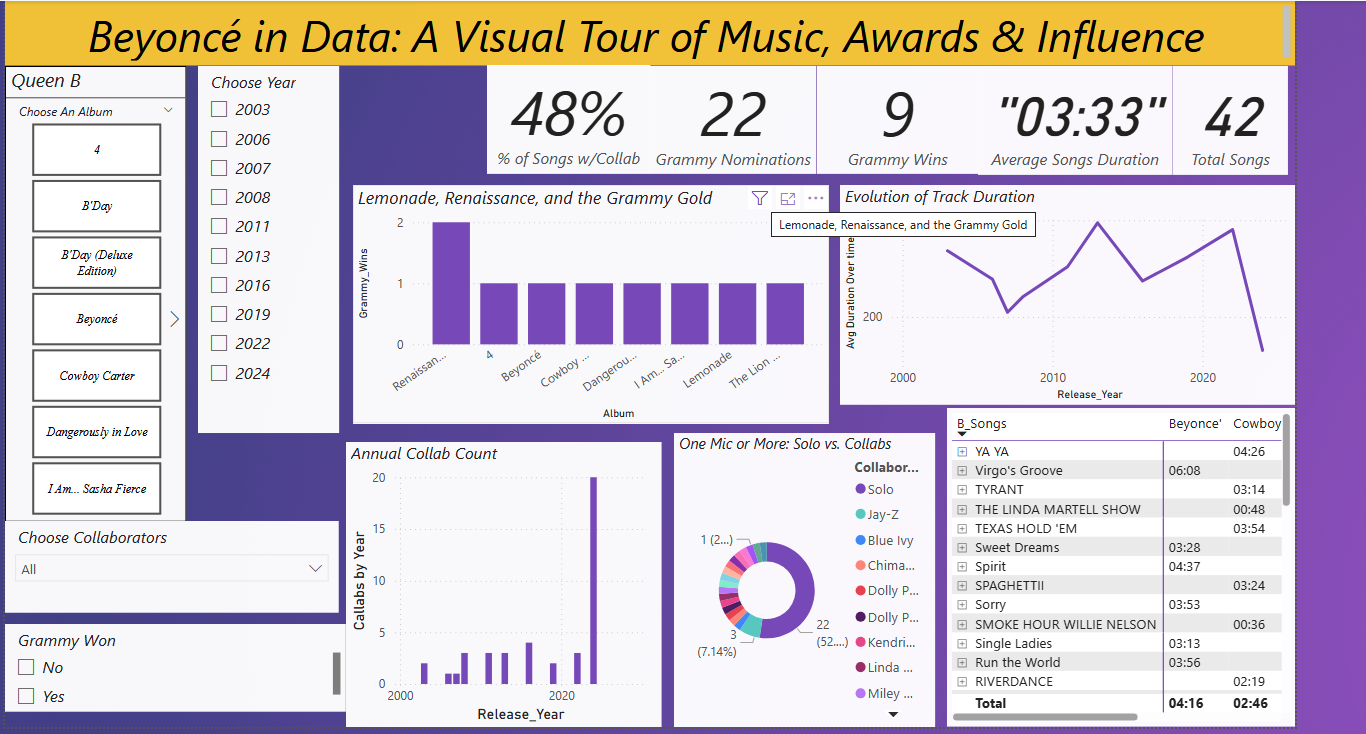

Layout of this report page (visuals, bound fields, positions):
{"tool":"powerbi","page":{"name":"Page 1","canvas":[1280,720],"ordinal":0},"visuals":[{"type":"textbox","box":[0,0,1280,63.9],"z":0},{"type":"card","fields":{"Values":["BEYONCE Song Data.B_Songs"]},"box":[1158,64,114,108],"z":1000},{"type":"card","fields":{"Values":["BEYONCE Song Data.Avg_Duration_Quoted"]},"box":[965,64,193,108],"z":2000},{"type":"card","fields":{"Values":["BEYONCE Song Data.Grammy_Wins"]},"box":[805,64,160,107],"z":3000},{"type":"card","fields":{"Values":["BEYONCE Song Data.Grammy_Nominations"]},"box":[640,64,165,107],"z":4000},{"type":"card","fields":{"Values":["BEYONCE Song Data.Collab_Percent"]},"box":[478,63,162,108],"z":5000},{"type":"lineChart","title":"Evolution of Track Duration","fields":{"Category":["BEYONCE Song Data.Release_Year"],"Y":["BEYONCE Song Data.Avg_Duration_Sec"]},"box":[828,182,452,218],"z":6000},{"type":"donutChart","title":"One Mic or More: Solo vs. Collabs","fields":{"Category":["BEYONCE Song Data.Collaborators"],"Y":["BEYONCE Song Data.Song_ID"]},"box":[663,428,259,292],"z":7000},{"type":"columnChart","title":"Lemonade, Renaissance, and the Grammy Gold ","fields":{"Y":["BEYONCE Song Data.Grammy_Wins"],"Category":["BEYONCE Song Data.Album"]},"box":[345,182,472,237],"z":8000},{"type":"columnChart","title":"Annual Collab Count ","fields":{"Category":["BEYONCE Song Data.Release_Year"],"Y":["BEYONCE Song Data.Is_Collab"]},"box":[338,437,313,283],"z":9000},{"type":"pivotTable","fields":{"Rows":["BEYONCE Song Data.B_Songs","BEYONCE Song Data.Collaborators","BEYONCE Song Data.Grammy_Won"],"Columns":["BEYONCE Song Data.Album_Type"],"Values":["BEYONCE Song Data.Avg_Duration_Formatted"]},"box":[934,404,346,316],"z":10000},{"type":"slicer","title":"Queen B","fields":{"Values":["BEYONCE Song Data.Album"]},"box":[0,64.4,180.5,451.7],"z":11000},{"type":"slicer","fields":{"Values":["BEYONCE Song Data.Release_Year"]},"box":[191.2,64.4,139.5,363.9],"z":12000},{"type":"slicer","fields":{"Values":["BEYONCE Song Data.Grammy_Won"]},"box":[0,617.6,337.6,86.8],"z":13000},{"type":"slicer","fields":{"Values":["BEYONCE Song Data.Collaborators"]},"box":[0,516.1,330.7,90.7],"z":14000}]}

Visuals, with their boxes in screenshot pixels (x1, y1, x2, y2):
textbox: rect(4, 0, 1288, 64)
card - BEYONCE Song Data.B_Songs: rect(1166, 64, 1280, 173)
card - BEYONCE Song Data.Avg_Duration_Quoted: rect(972, 64, 1166, 173)
card - BEYONCE Song Data.Grammy_Wins: rect(812, 64, 972, 172)
card - BEYONCE Song Data.Grammy_Nominations: rect(646, 64, 812, 172)
card - BEYONCE Song Data.Collab_Percent: rect(483, 63, 646, 172)
"Evolution of Track Duration" lineChart: rect(835, 183, 1288, 401)
"One Mic or More: Solo vs. Collabs" donutChart: rect(669, 430, 929, 723)
"Lemonade, Renaissance, and the Grammy Gold " columnChart: rect(350, 183, 824, 421)
"Annual Collab Count " columnChart: rect(343, 439, 657, 723)
pivotTable - BEYONCE Song Data.B_Songs x BEYONCE Song Data.Collaborators: rect(941, 405, 1288, 723)
"Queen B" slicer: rect(4, 65, 185, 518)
slicer - BEYONCE Song Data.Release_Year: rect(195, 65, 335, 430)
slicer - BEYONCE Song Data.Grammy_Won: rect(4, 620, 342, 707)
slicer - BEYONCE Song Data.Collaborators: rect(4, 518, 335, 609)
